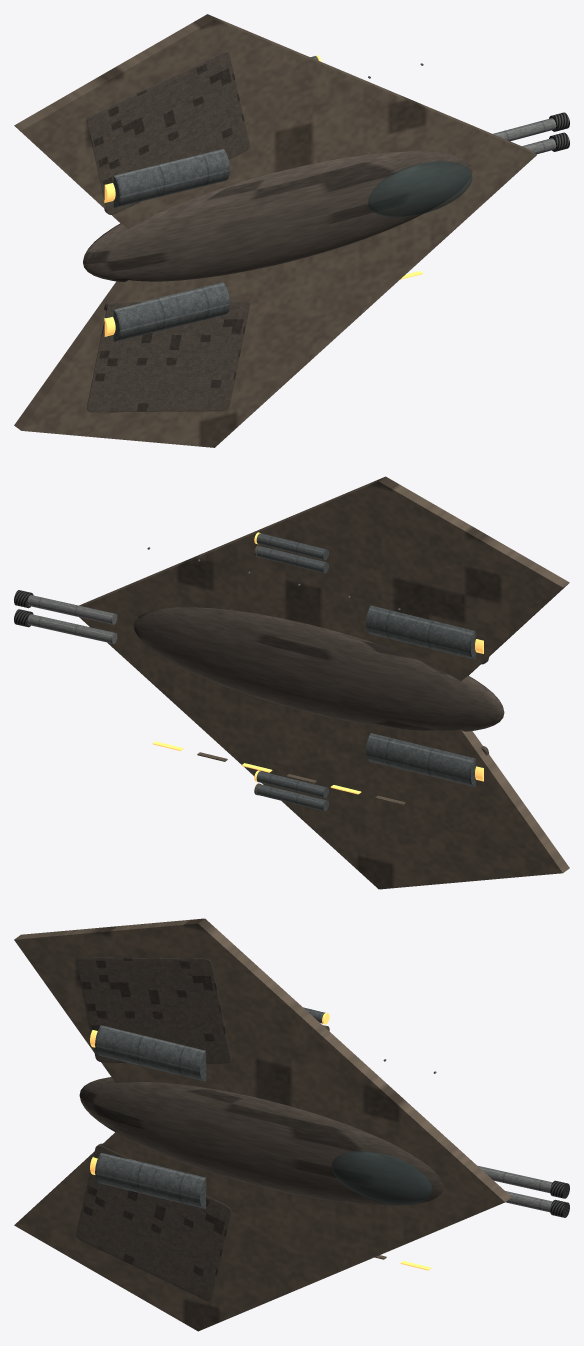
File: d-x06-dominion-reserveStrike-lod0.glb
The picture shows the model from 3 angles, top to bottom: view 1: azimuth 30°, elevation 25°; view 2: azimuth 150°, elevation 25°; view 3: azimuth 330°, elevation 25°; orthographic projection. The views are drawn at different scales.
Visible parts, largest first — view 1: flying_wing_planform, flying_wing_core, flying_wing_elevon_1, flying_wing_elevon_-1, flying_wing_canopy, flying_wing_engine_0, flying_wing_engine_1, flying_wing_gun_barrel_1; view 2: flying_wing_planform, flying_wing_core, flying_wing_engine_0, flying_wing_engine_1, flying_wing_gun_barrel_1, flying_wing_gun_barrel_0, flying_wing_-1_tube_1, flying_wing_-1_tube_2, flying_wing_1_tube_1, flying_wing_1_tube_2; view 3: flying_wing_planform, flying_wing_core, flying_wing_elevon_1, flying_wing_elevon_-1, flying_wing_canopy, flying_wing_engine_0, flying_wing_engine_1, flying_wing_gun_barrel_1, flying_wing_gun_barrel_0.
Boxes of the visible parts, x1,y1,x2,y2 form: flying_wing_planform: (14, 14, 536, 447); flying_wing_core: (83, 151, 472, 282); flying_wing_elevon_1: (87, 52, 249, 214); flying_wing_elevon_-1: (87, 301, 249, 412); flying_wing_canopy: (368, 161, 472, 217); flying_wing_engine_0: (113, 282, 229, 341); flying_wing_engine_1: (113, 149, 229, 207); flying_wing_gun_barrel_1: (493, 118, 556, 141); flying_wing_planform: (79, 476, 569, 889); flying_wing_core: (133, 607, 504, 731); flying_wing_engine_0: (366, 733, 475, 787); flying_wing_engine_1: (366, 605, 475, 659); flying_wing_gun_barrel_1: (27, 595, 117, 624); flying_wing_gun_barrel_0: (27, 614, 117, 643); flying_wing_-1_tube_1: (256, 784, 328, 811); flying_wing_-1_tube_2: (256, 771, 328, 798); flying_wing_1_tube_1: (256, 546, 328, 573); flying_wing_1_tube_2: (256, 533, 328, 560); flying_wing_planform: (14, 918, 511, 1331); flying_wing_core: (79, 1077, 443, 1205); flying_wing_elevon_1: (76, 957, 231, 1063); flying_wing_elevon_-1: (76, 1143, 231, 1300); flying_wing_canopy: (331, 1151, 432, 1204); flying_wing_engine_0: (95, 1152, 206, 1208); flying_wing_engine_1: (95, 1025, 206, 1081); flying_wing_gun_barrel_1: (477, 1165, 552, 1192); flying_wing_gun_barrel_0: (505, 1191, 552, 1212).
Size of what is drawn, in the model's own units: 16.38 by 11.92 by 1.75.
Materials: 7 (7 with a texture image).
